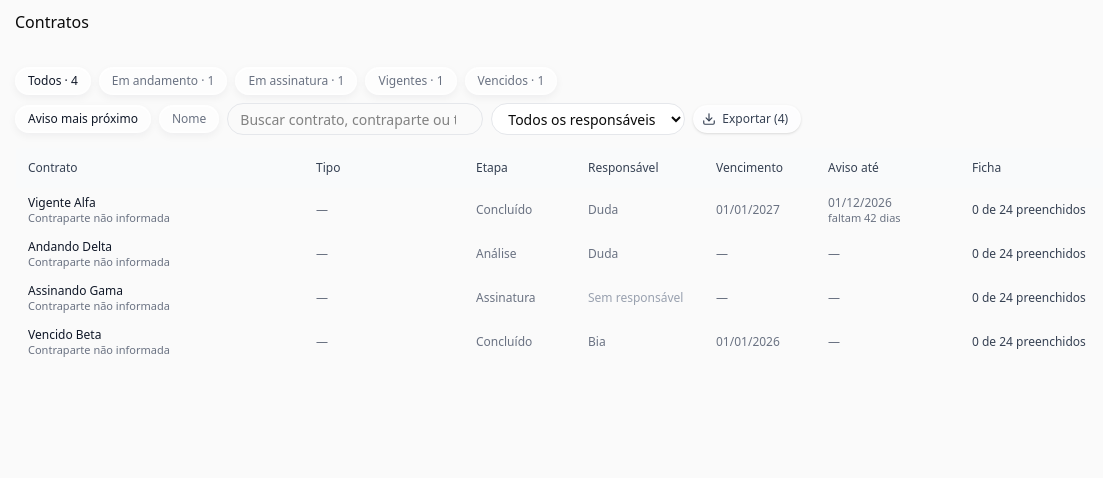
Scenario: ContractsPortfolioView › tabs, filters and export › narrows by owner and by search, and says so when nothing is left
Expected: the link "Vigente Alfa" is shown, [28,195,96,211]
Select "Duda" in the dropdown named "Responsável". click: (588, 119)
box: [491,103,685,135]
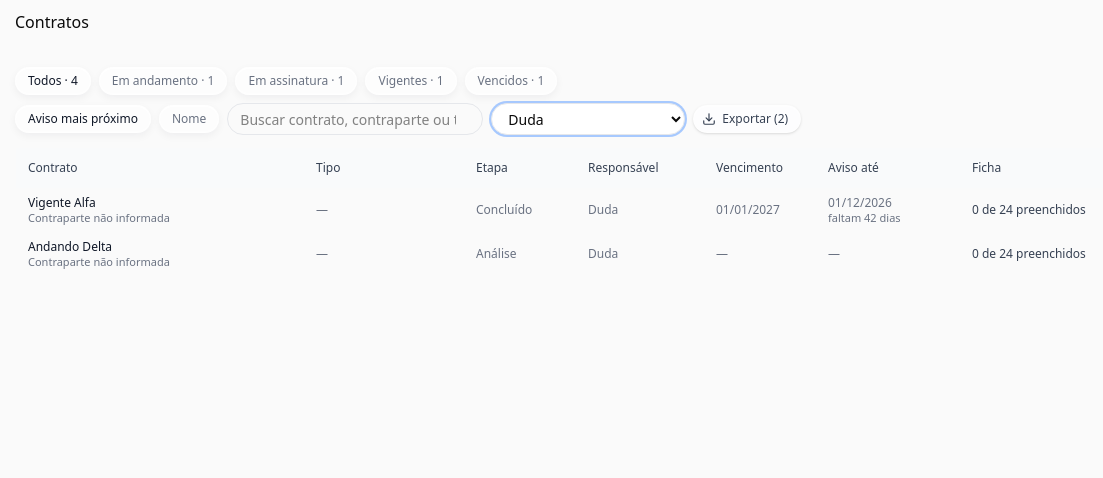
Type "delta" into the search field labelled "Buscar contrato". click: (355, 119)
box: [227,103,483,135]
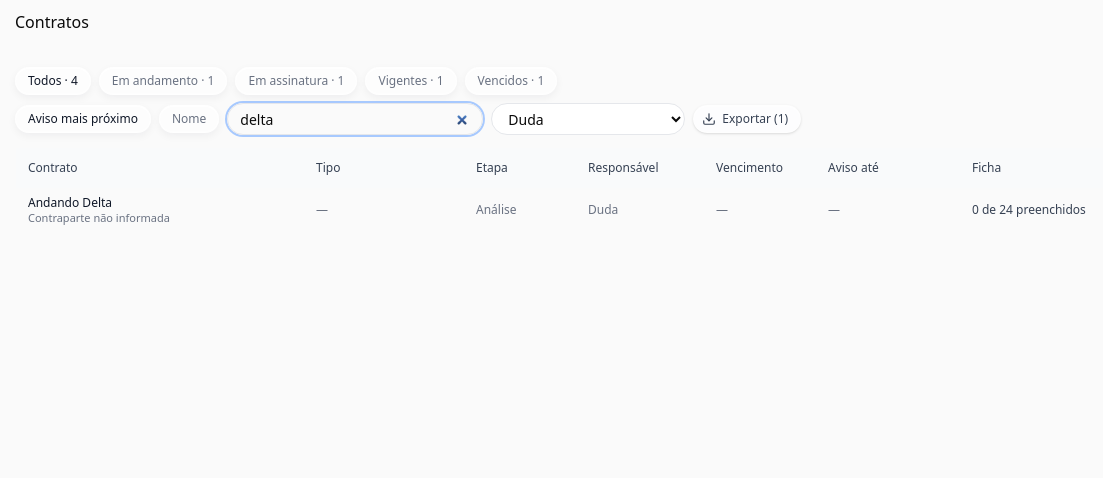
Select "Sem responsável" in the dropdown named "Responsável". click: (588, 119)
box: [491,103,685,135]
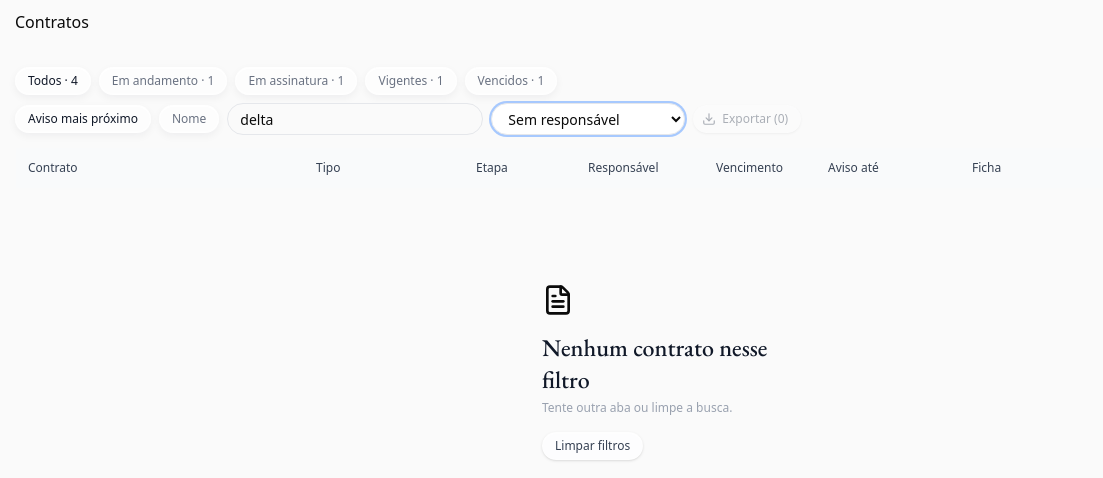
Now the text "Nenhum contrato nesse filtro" is shown, box [542,332,802,396]
Click the button named "Limpar filtros" below "Tente outra aba ou limpe a busca.". click: (593, 446)
box: [542,432,643,460]
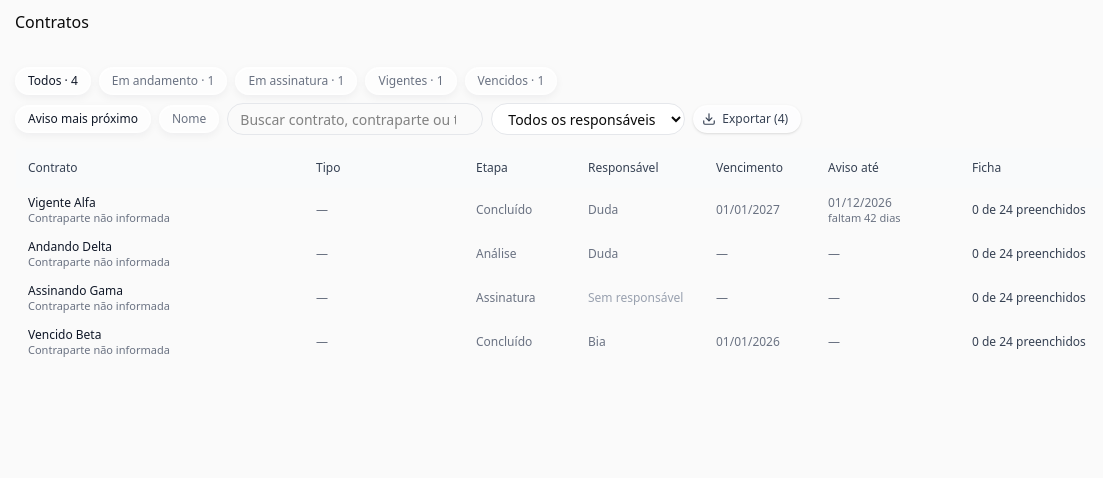
Now the number of links is 4, box [28,195,96,211]; [28,239,112,255]; [28,283,123,299]; [28,327,101,343]
